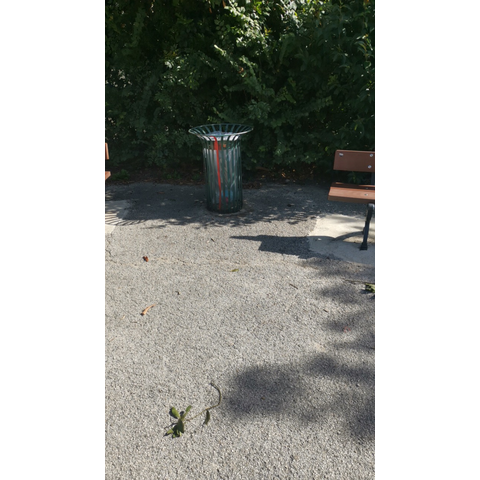poubelle: (188, 116, 262, 218)
